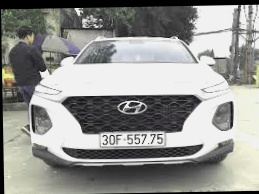Bien-so: (84, 129, 148, 151)
